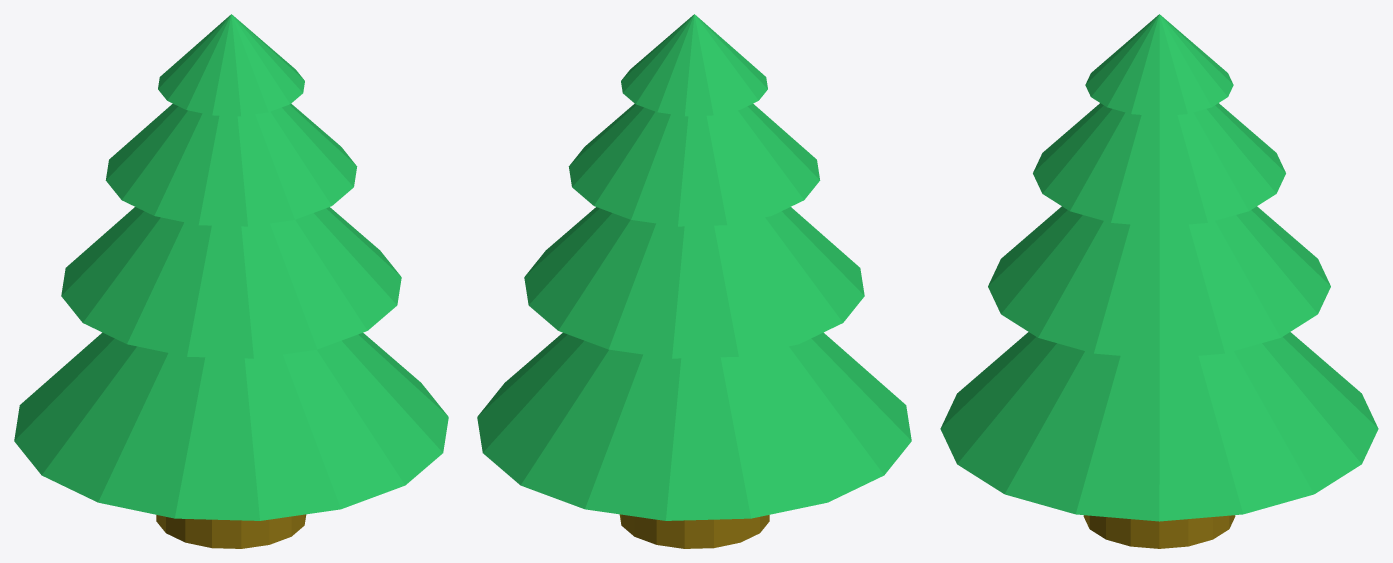
File: TreeParts.fbx
3 renders of one model, left to right at view 1: azimuth 30°, elevation 25°; view 2: azimuth 150°, elevation 25°; view 3: azimuth 270°, elevation 25°, orthographic.
Visible parts, largest first — view 1: Cone.003, Cone.002; view 2: Cone.003, Cone.002; view 3: Cone.003, Cone.002.
Part boxes in pixels (x1,y1,x2,y2): Cone.003: [61, 14, 401, 361]; Cone.002: [14, 344, 448, 548]; Cone.003: [477, 14, 864, 520]; Cone.002: [492, 332, 911, 548]; Cone.003: [988, 14, 1378, 517]; Cone.002: [940, 332, 1235, 548].
Bounding box in the file's own units: 395 × 500 × 395.
